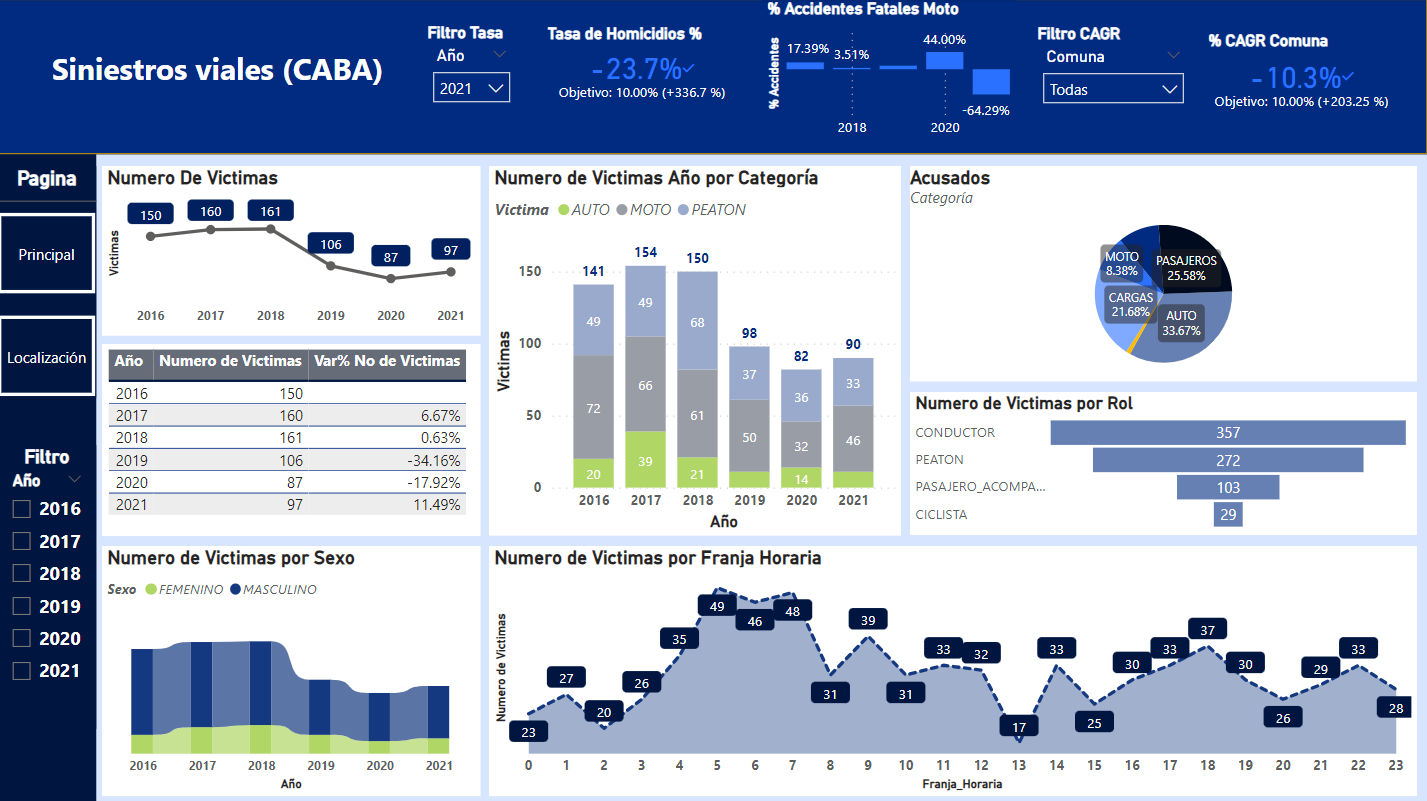

The dashboard page shown, as its layout file describes it:
{"tool":"powerbi","page":{"name":"Principal","canvas":[1280,720],"ordinal":0},"visuals":[{"type":"shape","box":[0,138.8,87.8,581.2],"z":0},{"type":"shape","box":[0,0,1279.7,138.8],"z":1000},{"type":"lineChart","title":"Numero De Victimas","fields":{"Category":["hechosyvictimas.Año"],"Y":["Sum(hechosyvictimas.Numero_Victimas)"]},"box":[93.1,149.6,339.4,152.2],"z":2000},{"type":"columnChart","title":"Numero de Victimas Año por Categoría","fields":{"Category":["hechosyvictimas.Año"],"Y":["Sum(hechosyvictimas.Numero_Victimas)"],"Series":["hechosyvictimas.Victima"]},"box":[439.7,149.6,369,331.3],"z":3000},{"type":"textbox","box":[34,38.5,325.1,45.7],"z":4000},{"type":"pieChart","title":"Acusados","fields":{"Y":["CountNonNull(hechosyvictimas.Acusado)"],"Series":["hechosyvictimas.Acusado"]},"box":[816.7,149.6,454,192.5],"z":5000},{"type":"areaChart","title":"Numero de Victimas por Franja Horaria","fields":{"Category":["hechosyvictimas.Franja_Horaria"],"Y":["Sum(hechosyvictimas.Numero_Victimas)"]},"box":[439.7,489.9,831,223.9],"z":6000},{"type":"tableEx","fields":{"Values":["Calendario.Año","Sum(hechosyvictimas.Numero_Victimas)","Calendario.Var% No.Victimas"]},"box":[93.1,309,339.4,171.9],"z":7000},{"type":"slicer","title":"Filtro","fields":{"Values":["LocalDateTable_4db570c2-8ebb-436c-9762-037321cdac86.Año"]},"box":[0,399.4,87.8,254.3],"z":8000},{"type":"pageNavigator","title":"Pagina","box":[0,149.6,87.8,206.9],"z":9000},{"type":"slicer","title":"Filtro Tasa","fields":{"Values":["Calendario.Año"]},"box":[379.7,21.5,88.7,79.7],"z":10000},{"type":"clusteredColumnChart","title":"% Accidentes Fatales Moto","fields":{"Category":["Calendario.Año"],"Y":["Medidas.% Accidentes Fatales Moto"]},"box":[684.2,0,226.6,132.5],"z":11000},{"type":"ribbonChart","title":"Numero de Victimas por Sexo","fields":{"Series":["hechosyvictimas.Sexo"],"Category":["Calendario.Año"],"Y":["Sum(hechosyvictimas.Numero_Victimas)"]},"box":[93.1,489.9,339.4,223.9],"z":12000},{"type":"kpi","title":"% CAGR Comuna","fields":{"Indicator":["Medidas.% CAGR Comuna"],"Goal":["Medidas.Objetivo victimas"],"TrendLine":["Calendario.Año"]},"box":[1079.1,28.7,176.4,81.5],"z":13000},{"type":"slicer","title":"Filtro CAGR","fields":{"Values":["hechosyvictimas.Comuna"]},"box":[926,22.4,146,78.8],"z":14000},{"type":"funnel","title":"Numero de Victimas por Rol","fields":{"Category":["hechosyvictimas.Rol"],"Y":["Sum(hechosyvictimas.Numero_Victimas)"]},"box":[816.7,351.9,454,128.1],"z":15000},{"type":"kpi","title":"Tasa de Homicidios %","fields":{"TrendLine":["Calendario.Año"],"Indicator":["Medidas.Victimas %"],"Goal":["Medidas.Objetivo victimas"]},"box":[487.2,22.4,179.1,78.8],"z":16000}]}

Visuals, with their boxes in screenshot pixels (x1, y1, x2, y2), scaled from the page's 1280x720 canvas onto the 1427x801 screenshot:
shape: box=[0, 154, 98, 800]
shape: box=[0, 0, 1426, 154]
"Numero De Victimas" lineChart: box=[104, 166, 482, 336]
"Numero de Victimas Año por Categoría" columnChart: box=[490, 166, 902, 535]
textbox: box=[38, 43, 400, 94]
"Acusados" pieChart: box=[910, 166, 1417, 381]
"Numero de Victimas por Franja Horaria" areaChart: box=[490, 545, 1417, 794]
tableEx - Calendario.Año x Sum(hechosyvictimas.Numero_Victimas): box=[104, 344, 482, 535]
"Filtro" slicer: box=[0, 444, 98, 727]
"Pagina" pageNavigator: box=[0, 166, 98, 397]
"Filtro Tasa" slicer: box=[423, 24, 522, 113]
"% Accidentes Fatales Moto" clusteredColumnChart: box=[763, 0, 1015, 147]
"Numero de Victimas por Sexo" ribbonChart: box=[104, 545, 482, 794]
"% CAGR Comuna" kpi: box=[1203, 32, 1400, 123]
"Filtro CAGR" slicer: box=[1032, 25, 1195, 113]
"Numero de Victimas por Rol" funnel: box=[910, 391, 1417, 534]
"Tasa de Homicidios %" kpi: box=[543, 25, 743, 113]
